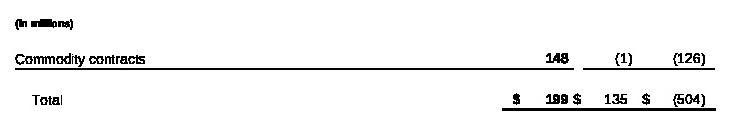table: (0, 0, 732, 134)
